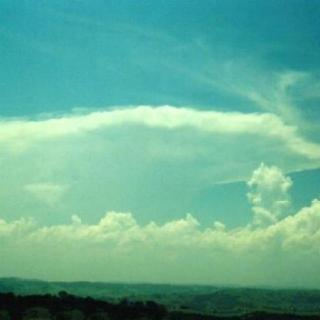Cumulus: (13, 50, 320, 267)
